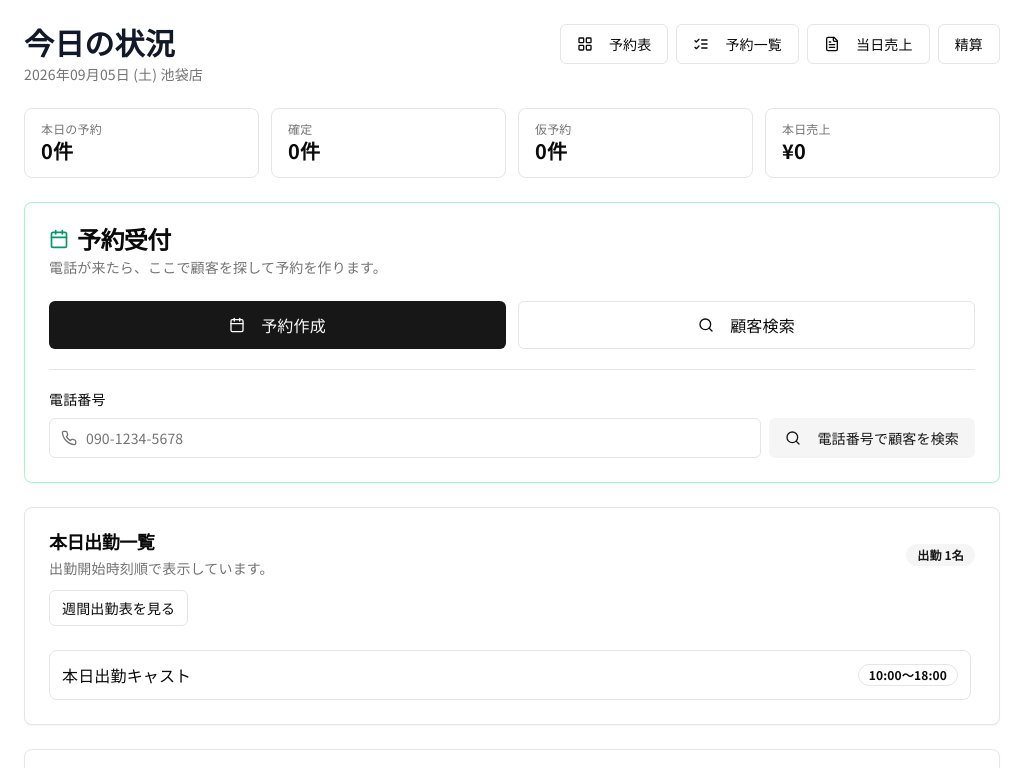
Test: DashboardPage field operations › does not offer new registration when an unmatched legacy phone is not writable
Step 1. Type "090-123-4567" into the field labelled "電話番号" → (405, 438), box x1=49 y1=418 x2=761 y2=458
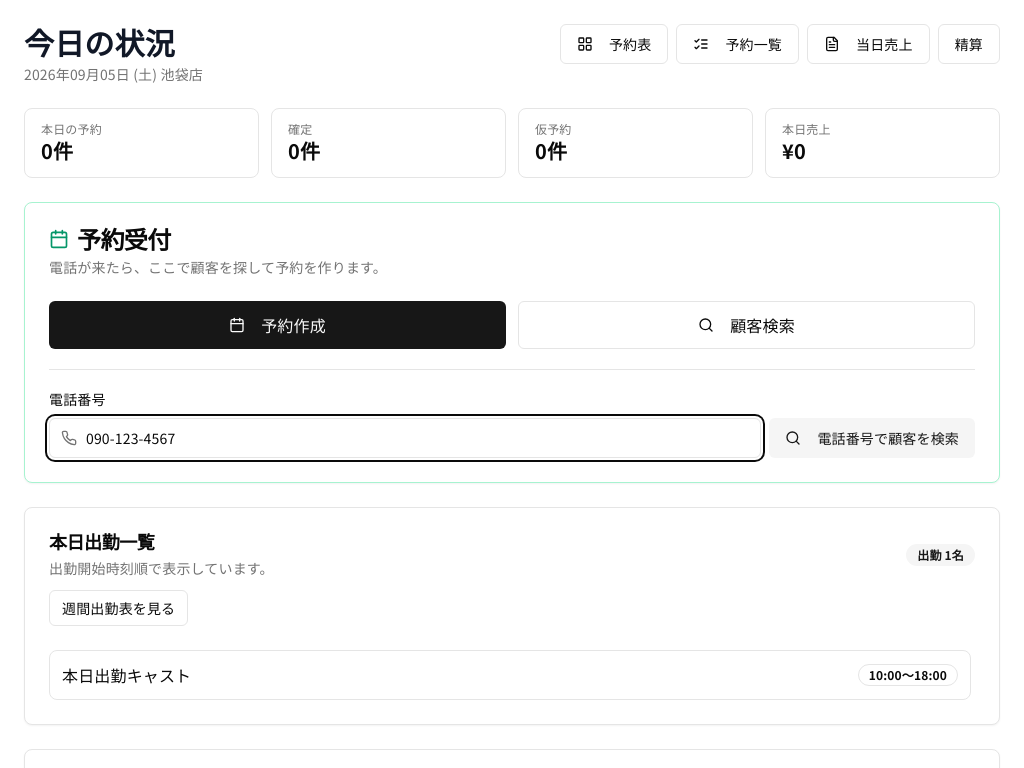
Step 2. Click the button "電話番号で顧客を検索" → click(872, 438), box x1=769 y1=418 x2=975 y2=458
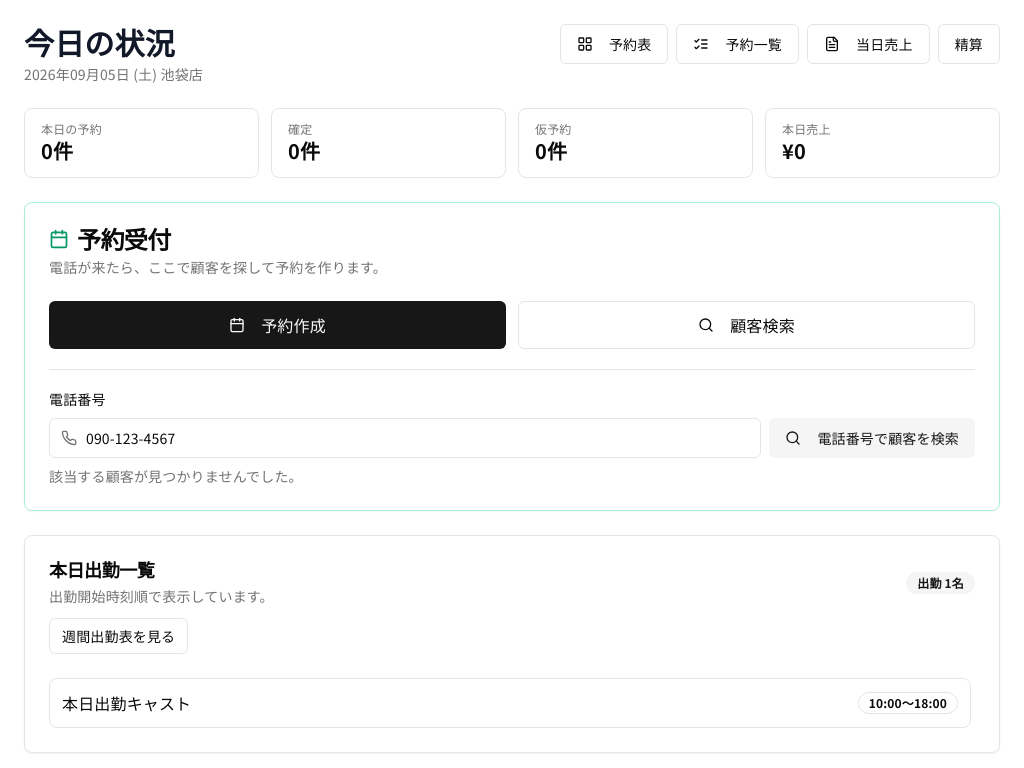
Expected: the text "該当する顧客が見つかりませんでした。" is shown, x1=49 y1=466 x2=303 y2=486
